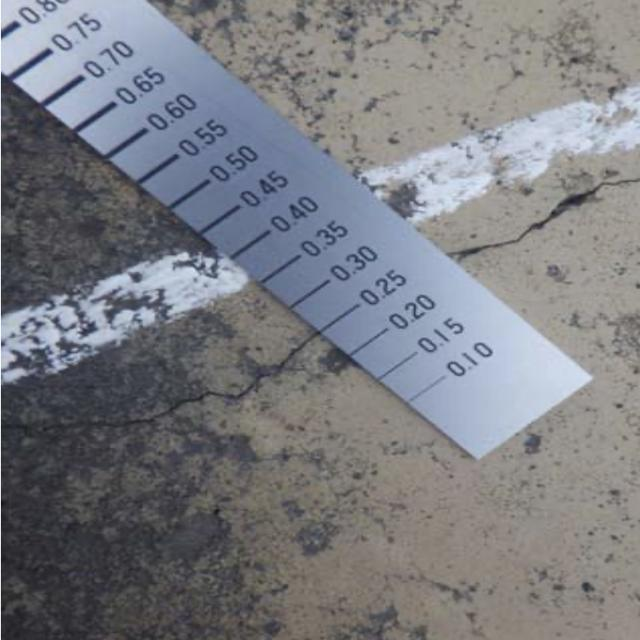crack: (4, 324, 317, 453), (443, 174, 640, 264)
